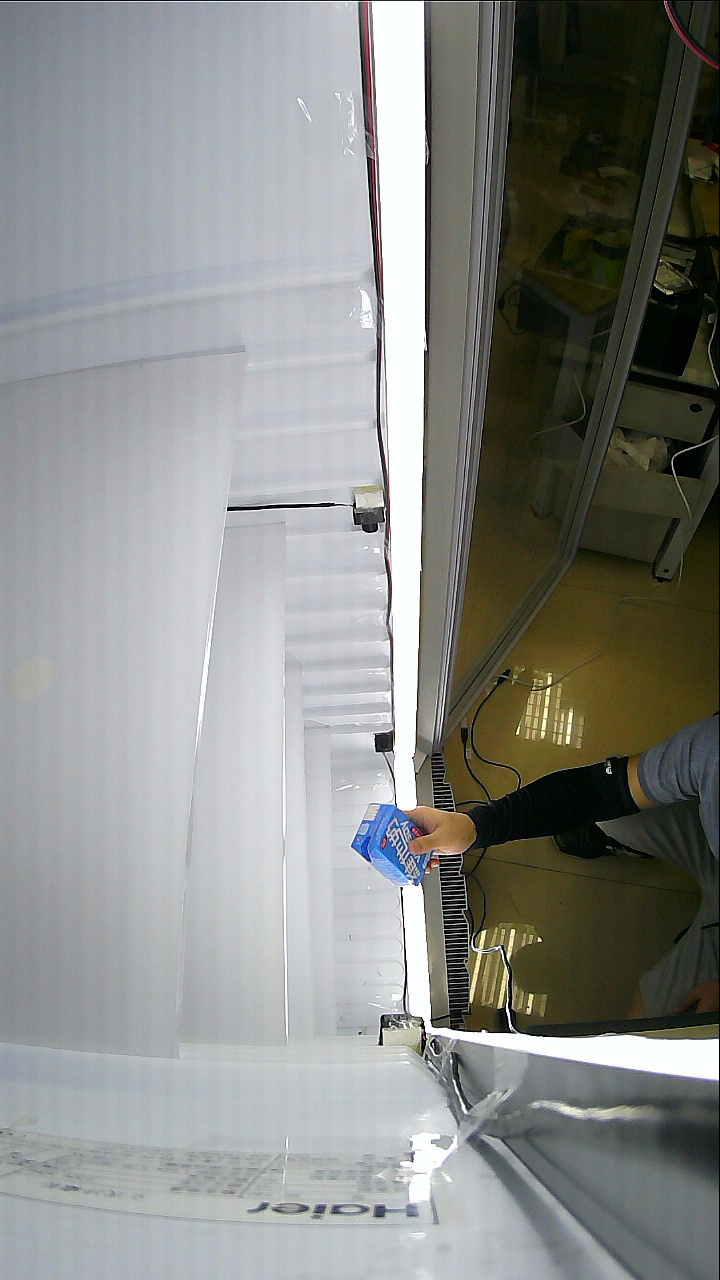VitaSoyOriginal: (356, 806, 492, 890)
